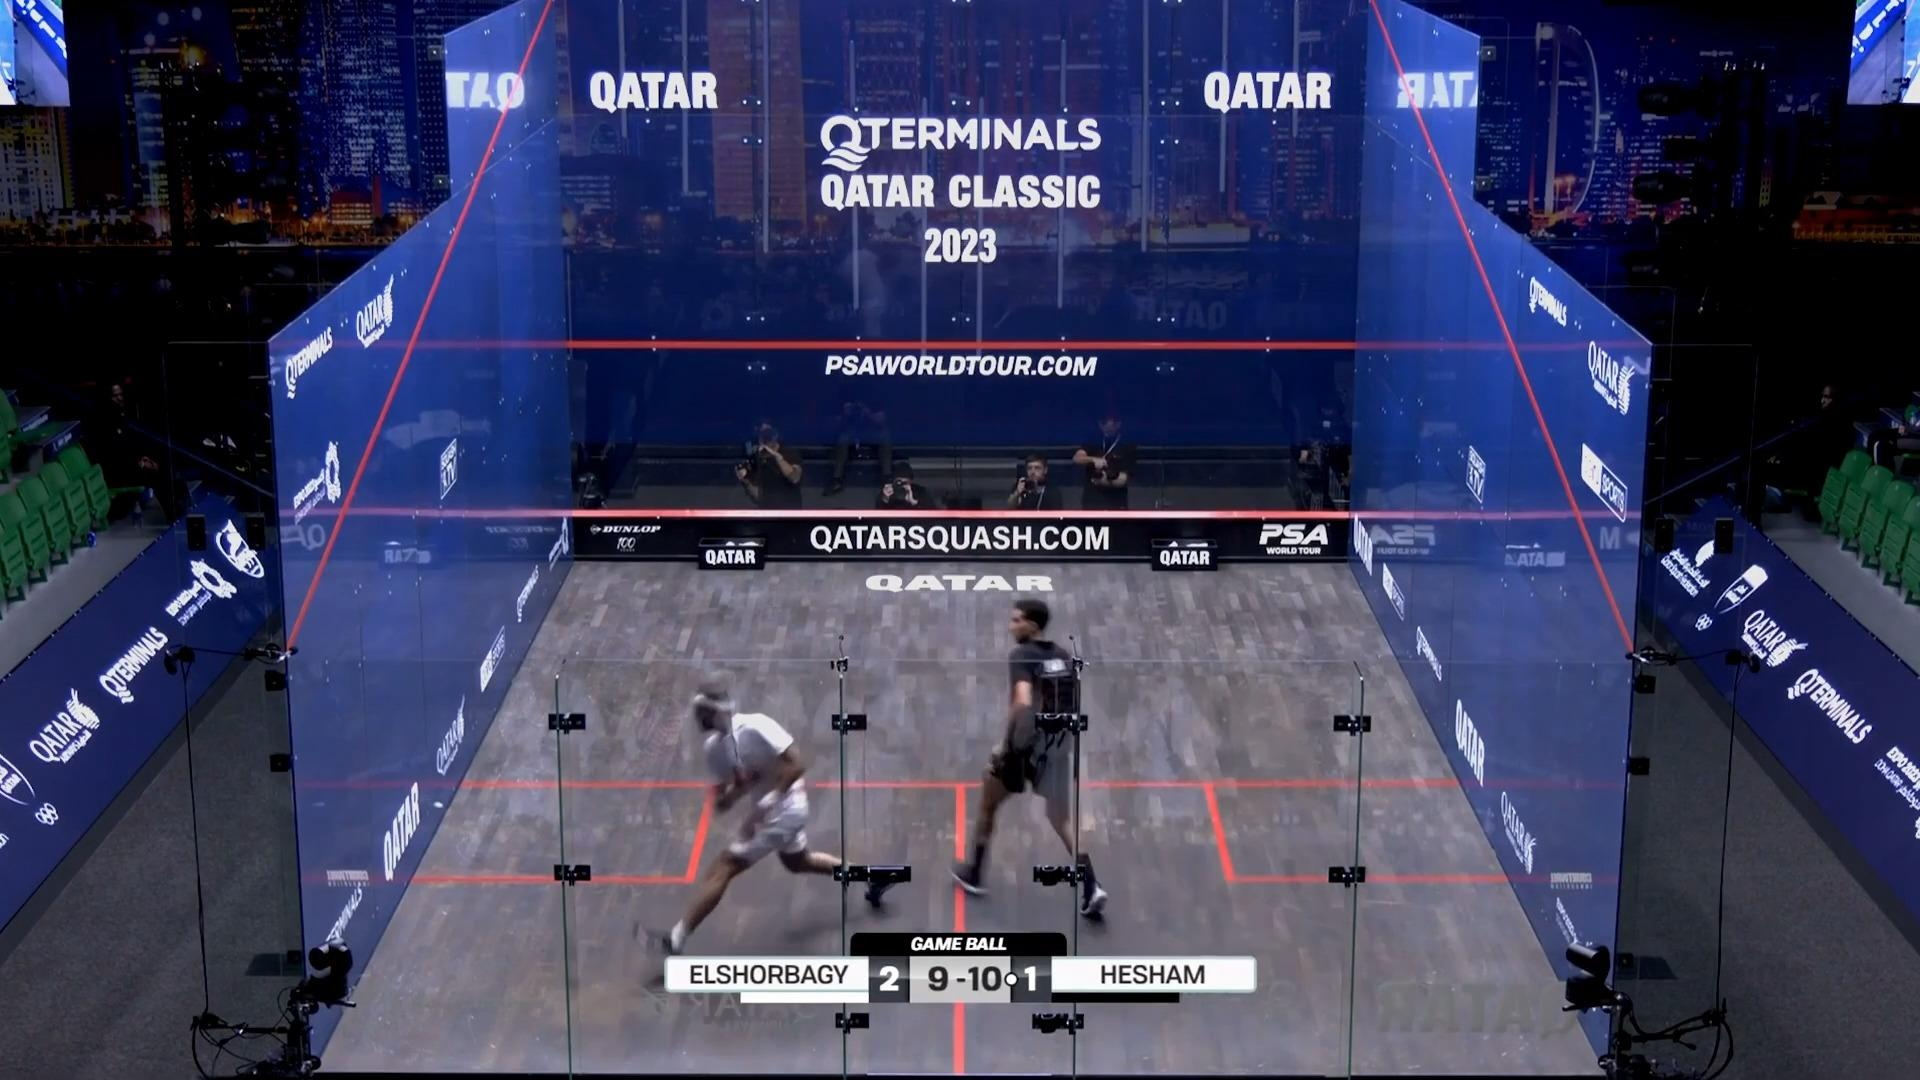Squash-Ball: (427, 794, 450, 815)
